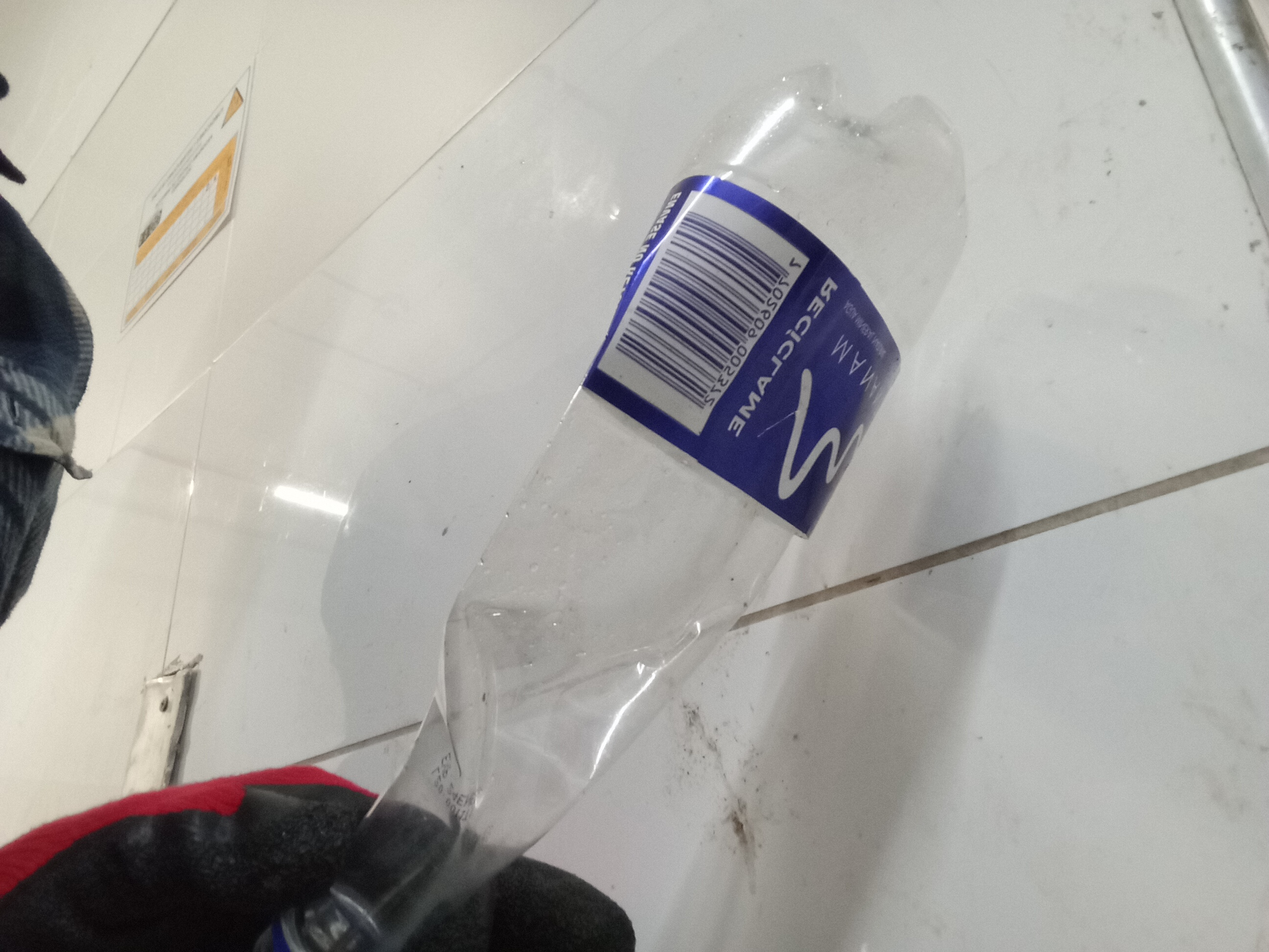Plastico: (261, 42, 969, 952)
